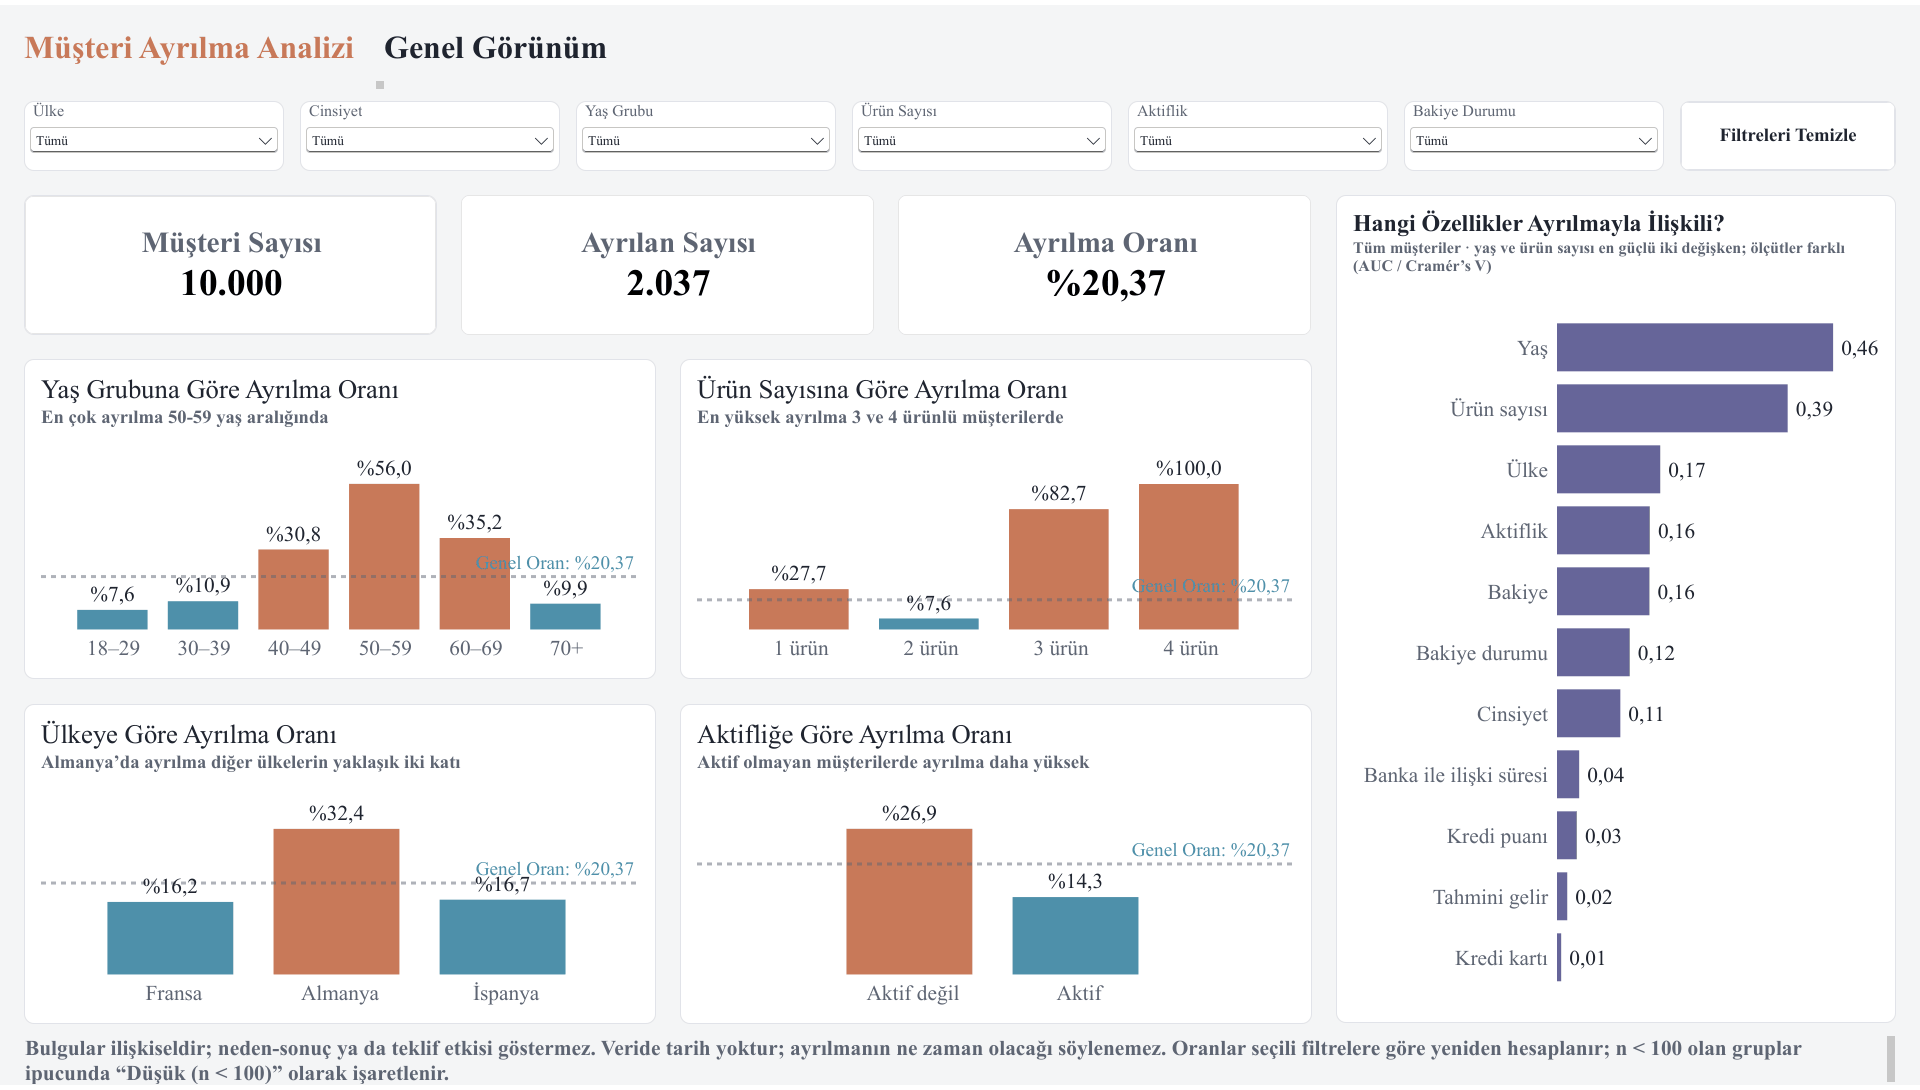

The dashboard page shown, as its layout file describes it:
{"tool":"powerbi","page":{"name":"Genel Görünüm","canvas":[1920,1080],"ordinal":0},"visuals":[{"type":"cardVisual","fields":{"Data":["Müşteriler.Müşteri Sayısı"]},"box":[24,190,413,140],"z":0},{"type":"cardVisual","fields":{"Data":["Müşteriler.Ayrılan Sayısı"]},"box":[461,190,413,140],"z":1000},{"type":"cardVisual","fields":{"Data":["Müşteriler.Ayrılma Oranı"]},"box":[898,190,413,140],"z":2000},{"type":"clusteredColumnChart","title":"Yaş Grubuna Göre Ayrılma Oranı","fields":{"Category":["Müşteriler.Yaş Grubu"],"Y":["Müşteriler.Ayrılma Oranı"]},"box":[24,354,632,320],"z":3000},{"type":"clusteredColumnChart","title":"Ürün Sayısına Göre Ayrılma Oranı","fields":{"Category":["Müşteriler.Ürün Sayısı"],"Y":["Müşteriler.Ayrılma Oranı"]},"box":[680,354,632,320],"z":4000},{"type":"clusteredColumnChart","title":"Ülkeye Göre Ayrılma Oranı","fields":{"Category":["Müşteriler.Ülke"],"Y":["Müşteriler.Ayrılma Oranı"]},"box":[24,698.5,632,320],"z":5000},{"type":"clusteredColumnChart","title":"Aktifliğe Göre Ayrılma Oranı","fields":{"Category":["Müşteriler.Aktiflik"],"Y":["Müşteriler.Ayrılma Oranı"]},"box":[680,698.5,632,320],"z":6000},{"type":"slicer","fields":{"Values":["Müşteriler.Ülke"]},"box":[24,96,260,70],"z":7000},{"type":"slicer","fields":{"Values":["Müşteriler.Cinsiyet"]},"box":[300,96,260,70],"z":8000},{"type":"slicer","fields":{"Values":["Müşteriler.Yaş Grubu"]},"box":[576,96,260,70],"z":9000},{"type":"slicer","fields":{"Values":["Müşteriler.Ürün Sayısı"]},"box":[852,96,260,70],"z":10000},{"type":"slicer","fields":{"Values":["Müşteriler.Aktiflik"]},"box":[1128,96,260,70],"z":11000},{"type":"slicer","fields":{"Values":["Müşteriler.Bakiye Durumu"]},"box":[1404,96,260,70],"z":12000},{"type":"actionButton","box":[1680,96,216,70],"z":13000},{"type":"clusteredBarChart","title":"Hangi Özellikler Ayrılmayla İlişkili?","fields":{"Category":["Değişken Gücü.Değişken"],"Y":["Sum(Değişken Gücü.İlişki Gücü)"]},"box":[1336,190,560,828],"z":14000},{"type":"textbox","title":"Müşteri Ayrılma Analizi","box":[24,24,360,60],"z":15000},{"type":"textbox","title":"Genel Görünüm","box":[384,24,400,60],"z":16000},{"type":"textbox","box":[25,1031,1869.9,48],"z":17000}]}

Visuals, with their boxes in screenshot pixels (x1, y1, x2, y2), scaled from the page's 1920x1080 canvas onto the 1920x1090 screenshot:
cardVisual - Müşteriler.Müşteri Sayısı: [x1=24, y1=192, x2=437, y2=333]
cardVisual - Müşteriler.Ayrılan Sayısı: [x1=461, y1=192, x2=874, y2=333]
cardVisual - Müşteriler.Ayrılma Oranı: [x1=898, y1=192, x2=1311, y2=333]
"Yaş Grubuna Göre Ayrılma Oranı" clusteredColumnChart: [x1=24, y1=357, x2=656, y2=680]
"Ürün Sayısına Göre Ayrılma Oranı" clusteredColumnChart: [x1=680, y1=357, x2=1312, y2=680]
"Ülkeye Göre Ayrılma Oranı" clusteredColumnChart: [x1=24, y1=705, x2=656, y2=1028]
"Aktifliğe Göre Ayrılma Oranı" clusteredColumnChart: [x1=680, y1=705, x2=1312, y2=1028]
slicer - Müşteriler.Ülke: [x1=24, y1=97, x2=284, y2=168]
slicer - Müşteriler.Cinsiyet: [x1=300, y1=97, x2=560, y2=168]
slicer - Müşteriler.Yaş Grubu: [x1=576, y1=97, x2=836, y2=168]
slicer - Müşteriler.Ürün Sayısı: [x1=852, y1=97, x2=1112, y2=168]
slicer - Müşteriler.Aktiflik: [x1=1128, y1=97, x2=1388, y2=168]
slicer - Müşteriler.Bakiye Durumu: [x1=1404, y1=97, x2=1664, y2=168]
actionButton: [x1=1680, y1=97, x2=1896, y2=168]
"Hangi Özellikler Ayrılmayla İlişkili?" clusteredBarChart: [x1=1336, y1=192, x2=1896, y2=1027]
"Müşteri Ayrılma Analizi" textbox: [x1=24, y1=24, x2=384, y2=85]
"Genel Görünüm" textbox: [x1=384, y1=24, x2=784, y2=85]
textbox: [x1=25, y1=1041, x2=1895, y2=1089]
